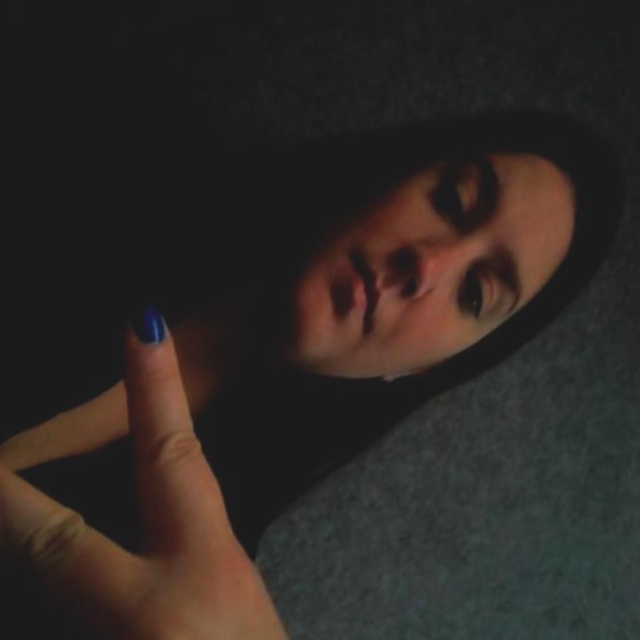Scissors: (0, 130, 3, 636)
